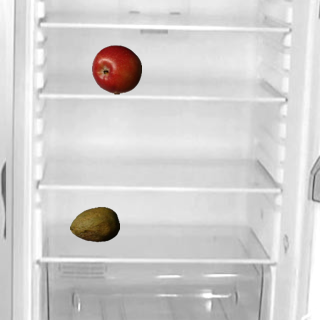Apple Braeburn: (91, 44, 141, 94)
Papaya: (69, 199, 119, 249)
